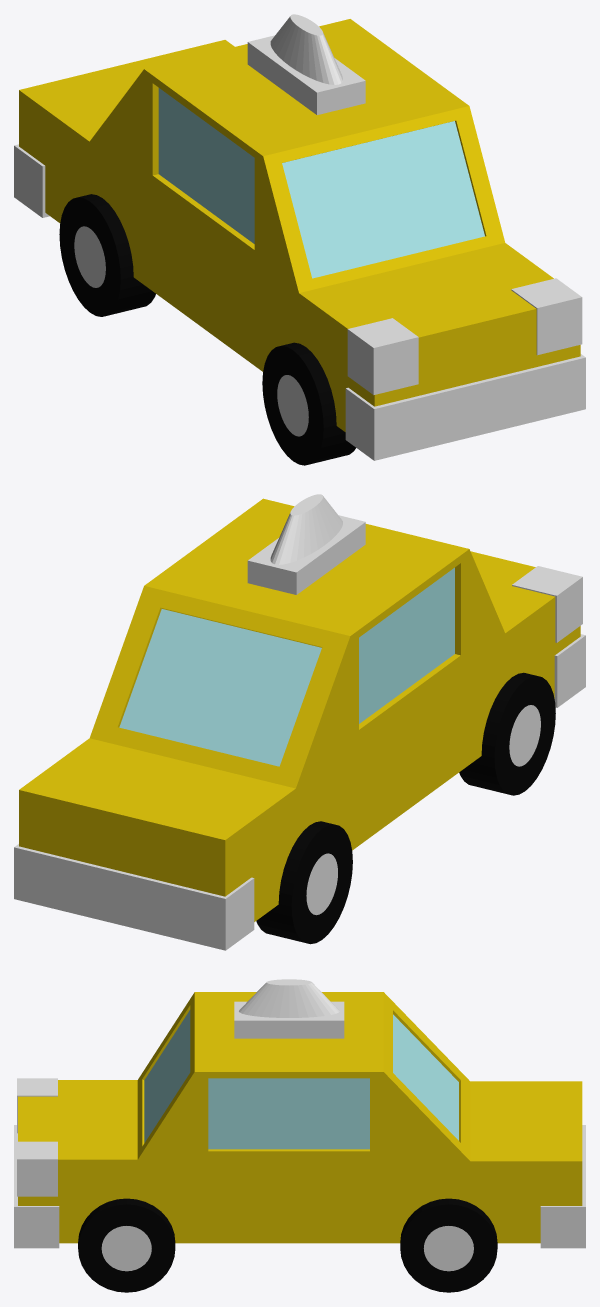
The model's file is taxi.fbx.
3 renders of one model, top to bottom at view 1: azimuth 30°, elevation 25°; view 2: azimuth 150°, elevation 25°; view 3: azimuth 270°, elevation 25°, orthographic. The views are drawn at different scales.
Parts seen in each view (by area): view 1: Cube; view 2: Cube; view 3: Cube.
Part boxes in pixels (x1,y1,x2,y2): Cube: [14, 14, 585, 465]; Cube: [14, 494, 585, 950]; Cube: [14, 979, 585, 1292].
Size of the model in its own units: 227 by 309 by 605.
